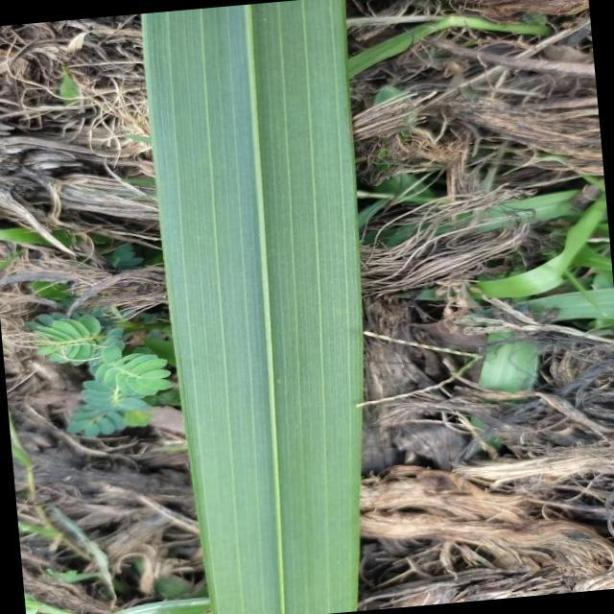Healthy: (144, 0, 364, 614)
